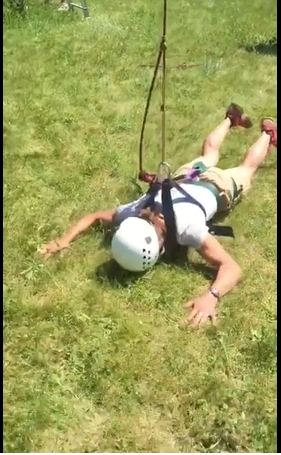fall: (50, 97, 264, 293)
